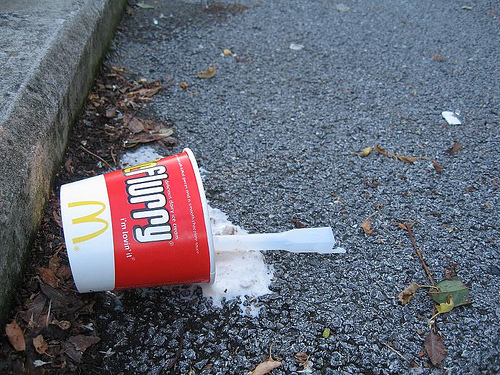litter: (59, 146, 348, 294), (441, 110, 464, 125)
